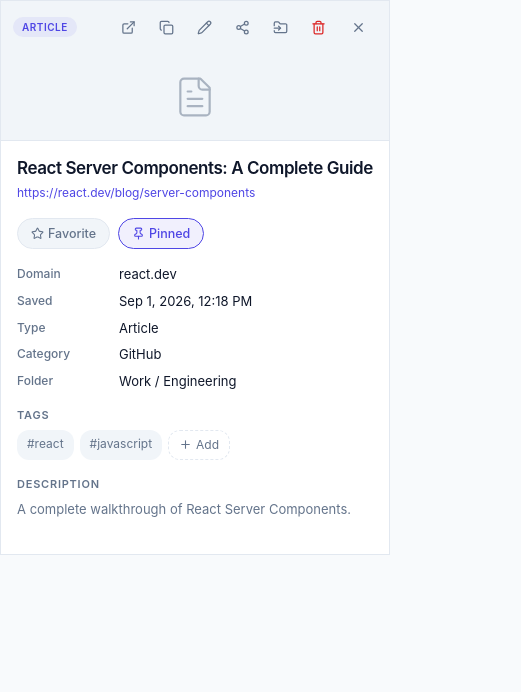
LinkDetailPanel — actions › Edit and Move toggle back to detail from their own action (one mode at a time)
Step 1. Click the button named "Edit link" → (205, 27), box top-left (187, 9), bottom-right (223, 45)
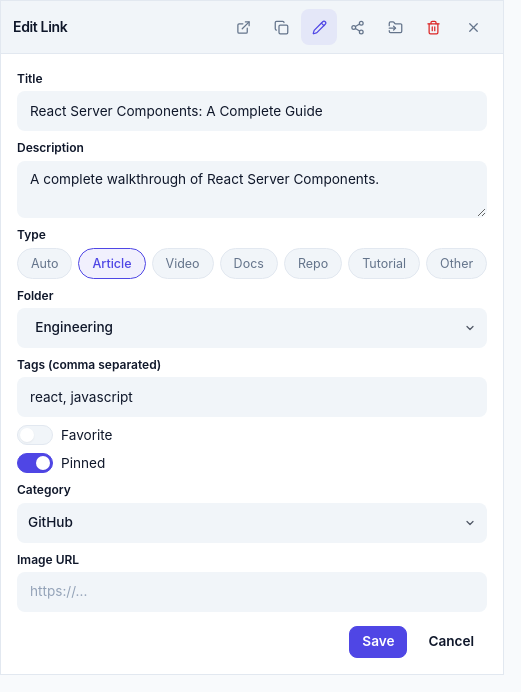
Now the element with class "edit-form" is shown
Now the button named "Edit link" is expanded
Step 2. Click the button named "Edit link" → (319, 27), box top-left (301, 9), bottom-right (337, 45)
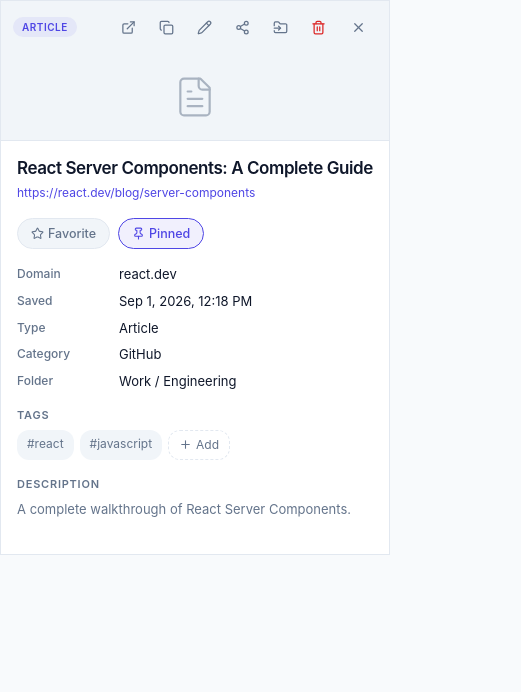
Now the element with class "edit-form" is gone
Now the button named "Edit link" is collapsed, box top-left (187, 9), bottom-right (223, 45)
Step 3. Click the button named "Move to folder" → (281, 27), box top-left (263, 9), bottom-right (299, 45)
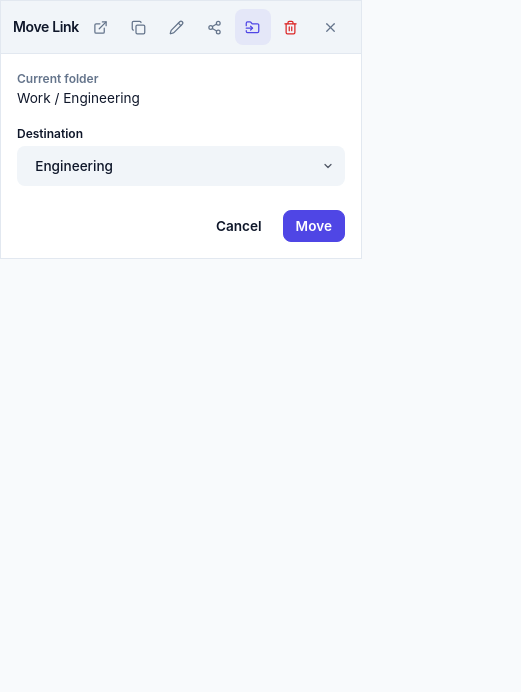
Now the text "Destination Engineering" is shown, box top-left (17, 125), bottom-right (345, 186)
Step 4. Click the button named "Move to folder" → (253, 27), box top-left (235, 9), bottom-right (271, 45)
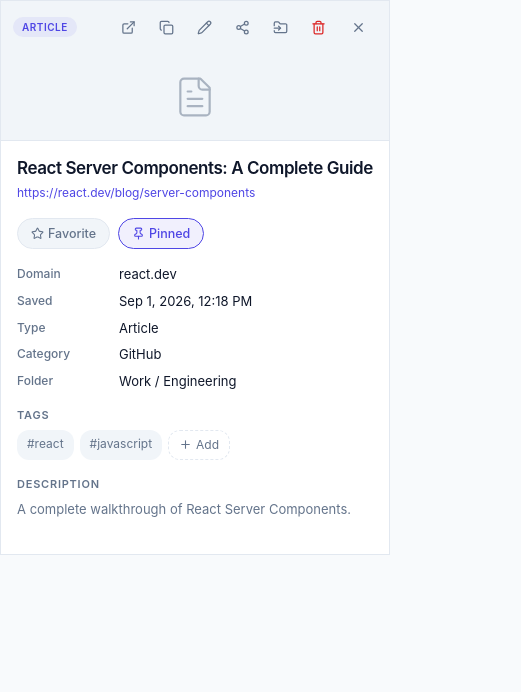
Single mode: opening Move while editing replaces the editor.
Step 5. Click the button named "Edit link" → (205, 27), box top-left (187, 9), bottom-right (223, 45)
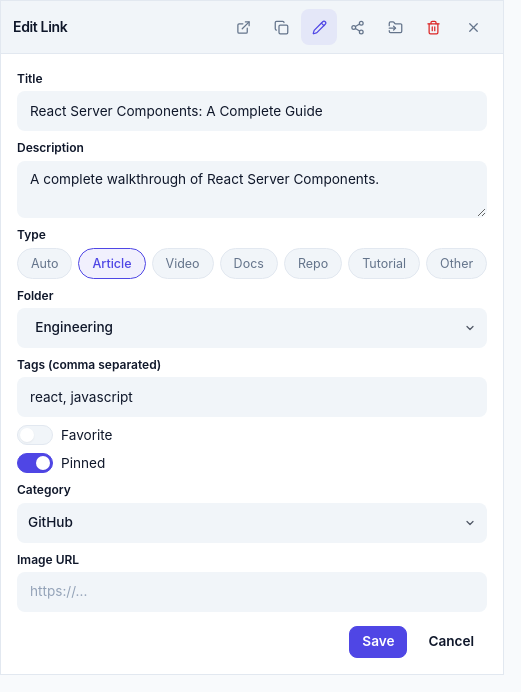
Step 6. Click the button named "Move to folder" → (395, 27), box top-left (377, 9), bottom-right (413, 45)
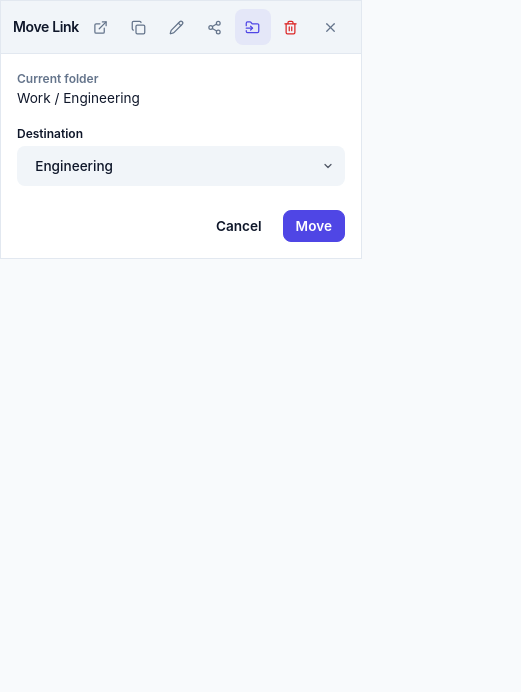
Now the element with class "edit-form" is gone
Now the text "Destination Engineering" is shown, box top-left (17, 125), bottom-right (345, 186)
Now the button named "Move to folder" is expanded, box top-left (235, 9), bottom-right (271, 45)
